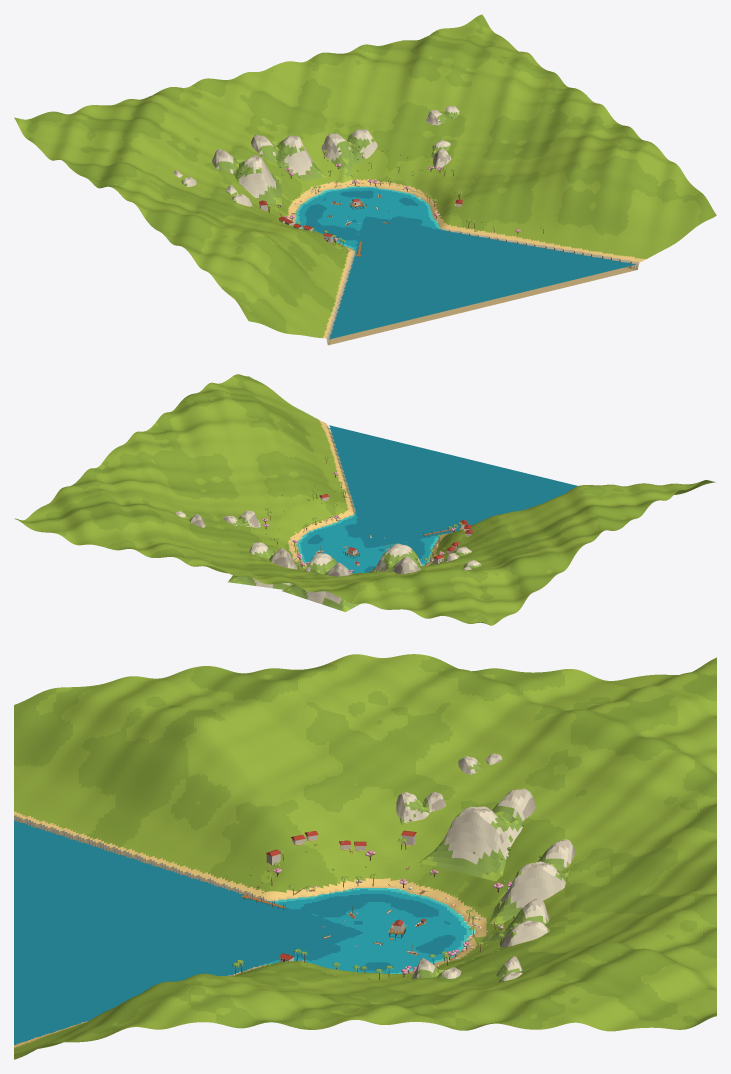
The model's file is bay-cove.glb.
3 renders of one model, top to bottom at view 1: azimuth 30°, elevation 25°; view 2: azimuth 150°, elevation 25°; view 3: azimuth 270°, elevation 25°, orthographic. The views are drawn at different scales.
Visible parts, largest first — view 1: GEO-cove_terrain, GEO-cove_water, GEO-hill.001, GEO-hill.002, GEO-hill.003; view 2: GEO-cove_terrain, GEO-cove_water, GEO-hill.002, GEO-hill.003, GEO-hill.001; view 3: GEO-cove_terrain, GEO-cove_water, GEO-hill.001, GEO-hill.002, GEO-hill.003, GEO-hill.005.
Part boxes in pixels (x1,y1,x2,y2): GEO-cove_terrain: (14,14,716,345); GEO-cove_water: (294,186,635,339); GEO-hill.001: (212,149,281,204); GEO-hill.002: (251,135,327,180); GEO-hill.003: (321,129,377,183); GEO-cove_terrain: (14,374,715,625); GEO-cove_water: (296,425,577,573); GEO-hill.002: (282,553,360,611); GEO-hill.003: (228,542,306,589); GEO-hill.001: (369,543,422,573); GEO-cove_terrain: (14,654,716,1059); GEO-cove_water: (14,820,475,1044); GEO-hill.001: (419,788,535,881); GEO-hill.002: (489,839,574,924); GEO-hill.003: (474,897,549,947); GEO-hill.005: (396,792,445,823).
Bounding box in the file's own units: 380 × 61.16 × 330.
